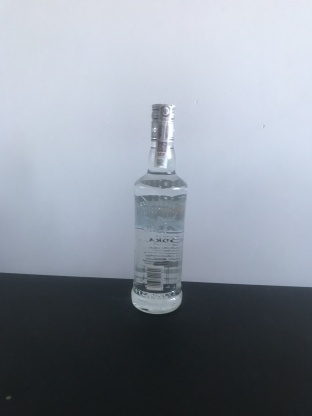nakretka: (148, 100, 177, 145)
